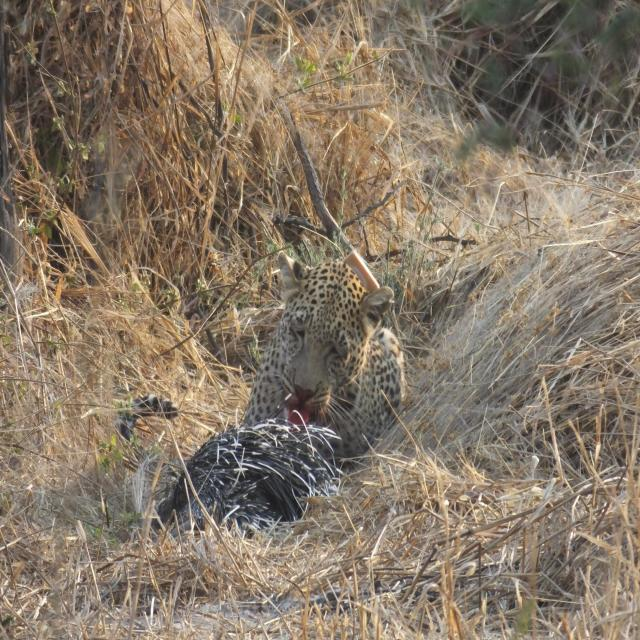Leopard: (119, 250, 411, 472)
